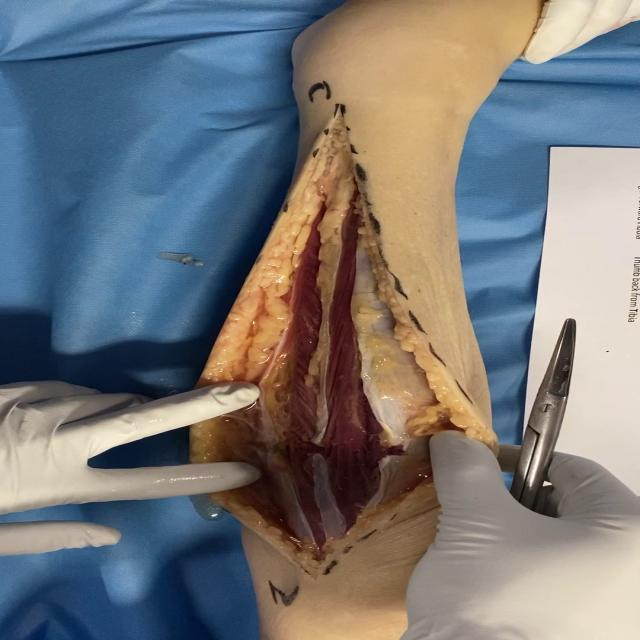scissors: (512, 316, 579, 516)
